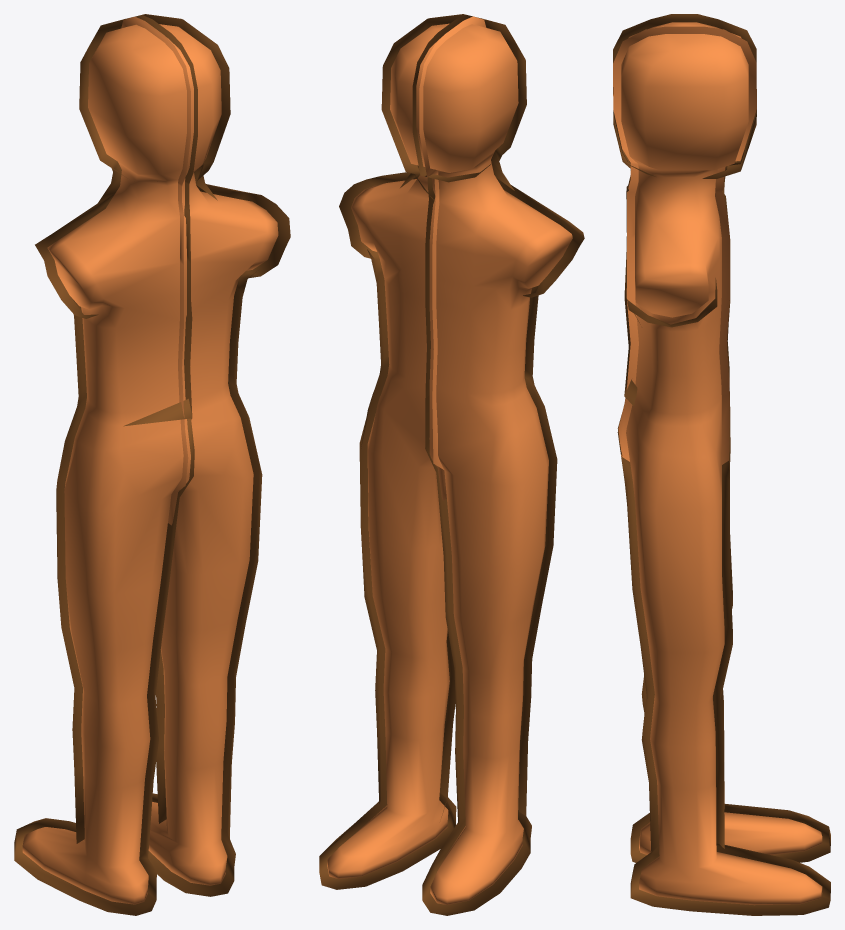
File: Person.glb
3 renders of one model, left to right at view 1: azimuth 30°, elevation 25°; view 2: azimuth 150°, elevation 25°; view 3: azimuth 270°, elevation 25°, orthographic. The views are drawn at different scales.
Parts seen in each view (by area): view 1: Cube; view 2: Cube; view 3: Cube.
Part boxes in pixels (x1,y1,x2,y2): Cube: [14, 14, 290, 915]; Cube: [319, 14, 584, 915]; Cube: [613, 14, 830, 915].
Size of the model in its own units: 0.4774 by 1.73 by 0.402.
